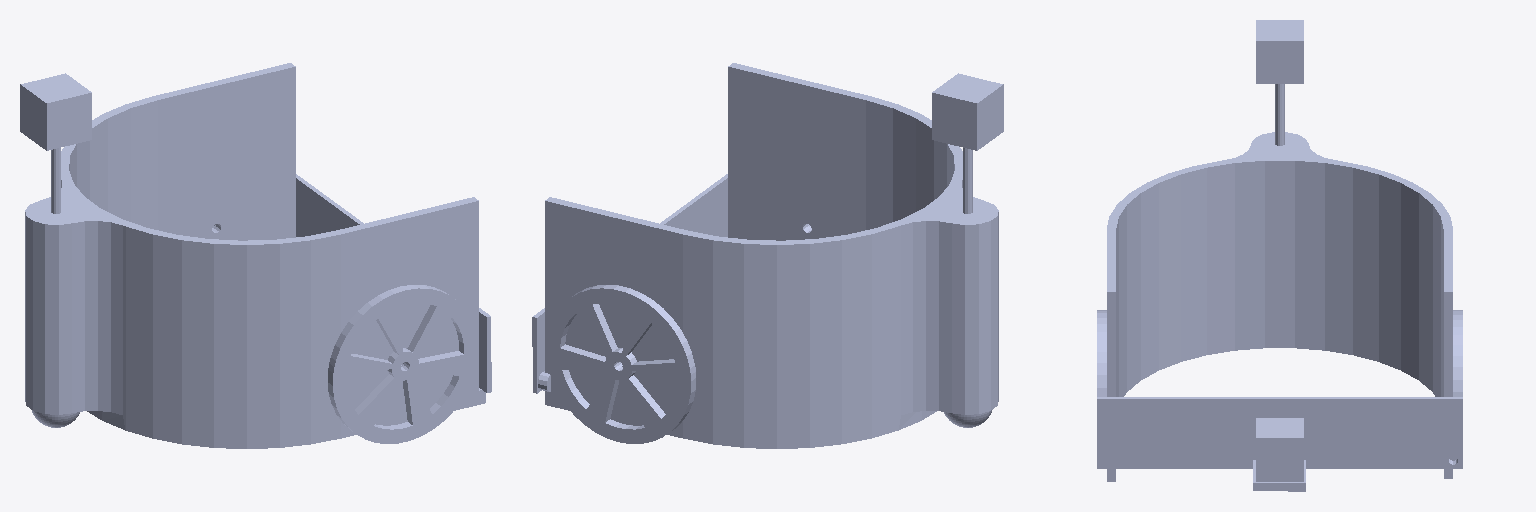
URDF robot description (bot_nav):
<?xml version="1.0" encoding="utf-8"?>
<!-- This URDF was automatically created by SolidWorks to URDF Exporter! Originally created by [author] ([email redacted]) 
     Commit Version: 1.6.0-1-g15f4949  Build Version: 1.6.7594.29634
     For more information, please see http://wiki.ros.org/sw_urdf_exporter -->
<robot
  name="bot_nav">
  <link
    name="base_link">
    <inertial>
      <origin
        xyz="-0.088804 1.6736E-05 0.096356"
        rpy="0 0 0" />
      <mass
        value="5" />
      <inertia
        ixx="0.048074"
        ixy="-9.1708E-06"
        ixz="0.0012144"
        iyy="0.042414"
        iyz="4.603E-07"
        izz="0.071261" />
    </inertial>
    <visual>
      <origin
        xyz="0 0 0"
        rpy="0 0 0" />
      <geometry>
        <mesh
          filename="package://bot_nav/meshes/base_link.STL" />
      </geometry>
      <material
        name="">
        <color
          rgba="0.79216 0.81961 0.93333 1" />
      </material>
    </visual>
    <collision>
      <origin
        xyz="0 0 0"
        rpy="0 0 0" />
      <geometry>
        <mesh
          filename="package://bot_nav/meshes/base_link.STL" />
      </geometry>
    </collision>
  </link>
  <link
    name="L_link">
    <inertial>
      <origin
        xyz="0.005 -6.9389E-18 7.3456E-11"
        rpy="0 0 0" />
      <mass
        value="3" />
      <inertia
        ixx="0.00045699"
        ixy="2.8078E-22"
        ixz="3.3426E-12"
        iyy="0.00022946"
        iyz="1.6941E-20"
        izz="0.00022946" />
    </inertial>
    <visual>
      <origin
        xyz="0 0 0"
        rpy="0 0 0" />
      <geometry>
        <mesh
          filename="package://bot_nav/meshes/L_link.STL" />
      </geometry>
      <material
        name="">
        <color
          rgba="0.79216 0.81961 0.93333 1" />
      </material>
    </visual>
    <collision>
      <origin
        xyz="0 0 0"
        rpy="0 0 0" />
      <geometry>
        <mesh
          filename="package://bot_nav/meshes/L_link.STL" />
      </geometry>
    </collision>
  </link>
  <joint
    name="L_joint"
    type="continuous">
    <origin
      xyz="0.065 0.18 0.05"
      rpy="1.6842 0 1.5708" />
    <parent
      link="base_link" />
    <child
      link="L_link" />
    <axis
      xyz="1 0 0" />
  </joint>
  <link
    name="R_link">
    <inertial>
      <origin
        xyz="-0.005 0 -7.2184E-11"
        rpy="0 0 0" />
      <mass
        value="3" />
      <inertia
        ixx="0.00045699"
        ixy="-1.1271E-22"
        ixz="3.2847E-12"
        iyy="0.00022946"
        iyz="-2.0329E-20"
        izz="0.00022946" />
    </inertial>
    <visual>
      <origin
        xyz="0 0 0"
        rpy="0 0 0" />
      <geometry>
        <mesh
          filename="package://bot_nav/meshes/R_link.STL" />
      </geometry>
      <material
        name="">
        <color
          rgba="0.79216 0.81961 0.93333 1" />
      </material>
    </visual>
    <collision>
      <origin
        xyz="0 0 0"
        rpy="0 0 0" />
      <geometry>
        <mesh
          filename="package://bot_nav/meshes/R_link.STL" />
      </geometry>
    </collision>
  </link>
  <joint
    name="R_joint"
    type="continuous">
    <origin
      xyz="0.065 -0.18 0.05"
      rpy="1.7886 0 1.5708" />
    <parent
      link="base_link" />
    <child
      link="R_link" />
    <axis
      xyz="1 0 0" />
  </joint>
  <link
    name="castor_link">
    <inertial>
      <origin
        xyz="2.7756E-17 0 3.9964E-17"
        rpy="0 0 0" />
      <mass
        value="1" />
      <inertia
        ixx="1.6362E-05"
        ixy="-1.4363E-54"
        ixz="0"
        iyy="1.6362E-05"
        iyz="-9.1835E-38"
        izz="1.6362E-05" />
    </inertial>
    <visual>
      <origin
        xyz="0 0 0"
        rpy="0 0 0" />
      <geometry>
        <mesh
          filename="package://bot_nav/meshes/castor_link.STL" />
      </geometry>
      <material
        name="">
        <color
          rgba="0.79216 0.81961 0.93333 1" />
      </material>
    </visual>
    <collision>
      <origin
        xyz="0 0 0"
        rpy="0 0 0" />
      <geometry>
        <mesh
          filename="package://bot_nav/meshes/castor_link.STL" />
      </geometry>
    </collision>
  </link>
  <joint
    name="castor_joint"
    type="continuous">
    <origin
      xyz="-0.21 0 0"
      rpy="1.5708 0 0" />
    <parent
      link="base_link" />
    <child
      link="castor_link" />
    <axis
      xyz="0 0 1" />
    <dynamics
      damping="0"
      friction="0" />
  </joint>
  <link
    name="photo_link">
    <inertial>
      <origin
        xyz="0 0.025 5.5596E-17"
        rpy="0 0 0" />
      <mass
        value="0.2" />
      <inertia
        ixx="5.2083E-05"
        ixy="2.0668E-21"
        ixz="-3.9528E-22"
        iyy="5.2083E-05"
        iyz="8.38E-37"
        izz="5.2083E-05" />
    </inertial>
    <visual>
      <origin
        xyz="0 0 0"
        rpy="0 0 0" />
      <geometry>
        <mesh
          filename="package://bot_nav/meshes/photo_link.STL" />
      </geometry>
      <material
        name="">
        <color
          rgba="0.79216 0.81961 0.93333 1" />
      </material>
    </visual>
    <collision>
      <origin
        xyz="0 0 0"
        rpy="0 0 0" />
      <geometry>
        <mesh
          filename="package://bot_nav/meshes/photo_link.STL" />
      </geometry>
    </collision>
  </link>
  <joint
    name="photo_joint"
    type="fixed">
    <origin
      xyz="-0.21 -0.025 0.305"
      rpy="0 0 0" />
    <parent
      link="base_link" />
    <child
      link="photo_link" />
    <axis
      xyz="0 0 0" />
  </joint>
  <link
    name="grip_link">
    <inertial>
      <origin
        xyz="-0.088804 1.6736E-05 0.096356"
        rpy="0 0 0" />
      <mass
        value="5" />
      <inertia
        ixx="0.048074"
        ixy="-9.1708E-06"
        ixz="0.0012144"
        iyy="0.042414"
        iyz="4.603E-07"
        izz="0.071261" />
    </inertial>
    <visual>
      <origin
        xyz="0 0 0"
        rpy="0 0 0" />
      <geometry>
        <mesh
          filename="package://bot_nav/meshes/grip_link.STL" />
      </geometry>
      <material
        name="">
        <color
          rgba="0.79216 0.81961 0.93333 1" />
      </material>
    </visual>
    <collision>
      <origin
        xyz="0 0 0"
        rpy="0 0 0" />
      <geometry>
        <mesh
          filename="package://bot_nav/meshes/grip_link.STL" />
      </geometry>
    </collision>
  </link>
  <joint
    name="grip_joint"
    type="revolute">
    <origin
      xyz="0.155 0.18 0.01"
      rpy="1.5696 0 0" />
    <parent
      link="base_link" />
    <child
      link="grip_link" />
    <axis
      xyz="-1 0 0" />
    <limit
      lower="0"
      upper="1.7"
      effort="8000"
      velocity="1.0" />
    <dynamics
      damping="0"
      friction="0" />
  </joint>
  <link
    name="scan_link">
    <inertial>
      <origin
        xyz="-2.7756E-17 0.025 -1.222E-07 "
        rpy="0 0 0" />
      <mass
        value="0.2" />
      <inertia
        ixx="5.2083E-05"
        ixy="-6.6706E-22"
        ixz="-1.8098E-21"
        iyy="5.2083E-05"
        iyz="4.1558E-21"
        izz="5.2083E-05" />
    </inertial>
    <visual>
      <origin
        xyz="0 -0.025 -0.025"
        rpy="0 0 0" />
      <geometry>
        <mesh
          filename="package://bot_nav/meshes/scan_link.STL" />
      </geometry>
      <material
        name="">
        <color
          rgba="0.79216 0.81961 0.93333 1" />
      </material>
    </visual>
    <collision>
      <origin
        xyz="0 -0.025 -0.025"
        rpy="0 0 0" />
      <geometry>
        <mesh
          filename="package://bot_nav/meshes/scan_link.STL" />
      </geometry>
    </collision>
  </link>
  <joint
    name="scan_joint"
    type="fixed">
    <origin
      xyz="0.0325 0 0.18"
      rpy="1.57 0 0" />
    <parent
      link="grip_link" />
    <child
      link="scan_link" />
    <axis
      xyz="0 0 0" />
  </joint>


 <!--Drive-->

  <gazebo>

    <plugin filename="libgazebo_ros_diff_drive.so" name="differential_drive_controller">

      <legacyMode>false</legacyMode>

      <alwaysOn>true</alwaysOn>

      <updateRate>20</updateRate>

      <leftJoint>L_joint</leftJoint>

      <rightJoint>R_joint</rightJoint>

      <wheelSeparation>0.36</wheelSeparation>

      <wheelDiameter>0.16</wheelDiameter>

      <torque>5</torque>

      <commandTopic>cmd_vel</commandTopic>

      <odometryTopic>odom</odometryTopic>

      <odometryFrame>odom</odometryFrame>

      <robotBaseFrame>base_link</robotBaseFrame>

    </plugin>

  </gazebo>


 <!--Transmission for gate-->

  <gazebo>
    <plugin name="gazebo_ros_control" filename="libgazebo_ros_control.so">
      <robotNamespace>/bot_nav</robotNamespace>
      <robotSimType>gazebo_ros_control/DefaultRobotHWSim</robotSimType>
      <legacyModeNS>true</legacyModeNS>
    </plugin>
  </gazebo>

  <transmission name="base_to_second_trans">
    <type>transmission_interface/SimpleTransmission</type>
    <actuator name="motor1">
      <mechanicalReduction>1</mechanicalReduction>
    </actuator>
    <joint name="grip_joint">
      <hardwareInterface>PositionJointInterface</hardwareInterface>
    </joint>
  </transmission>

  <!-- SENSORS -->

     <!--camera-->
  <gazebo reference="photo_link">
    <sensor type="camera" name="camera1">
      <update_rate>30.0</update_rate>
      <camera name="head">
        <horizontal_fov>1.3962634</horizontal_fov>
        <image>
          <width>800</width>
          <height>800</height>
          <format>R8G8B8</format>
        </image>
        <clip>
          <near>0.02</near>
          <far>300</far>
        </clip>
        <noise>
          <type>gaussian</type>
          <!-- Noise is sampled independently per pixel on each frame.
               That pixel's noise value is added to each of its color
               channels, which at that point lie in the range [0,1]. -->
          <mean>0.0</mean>
          <stddev>0.007</stddev>
        </noise>
      </camera>
      <plugin name="camera_controller" filename="libgazebo_ros_camera.so">
        <alwaysOn>true</alwaysOn>
        <updateRate>0.0</updateRate>
        <cameraName>robot/camera1</cameraName>
        <imageTopicName>image_raw</imageTopicName>
        <cameraInfoTopicName>camera_info</cameraInfoTopicName>
        <frameName>photo_link</frameName>
        <hackBaseline>0.07</hackBaseline>
        <distortionK1>0.0</distortionK1>
        <distortionK2>0.0</distortionK2>
        <distortionK3>0.0</distortionK3>
        <distortionT1>0.0</distortionT1>
        <distortionT2>0.0</distortionT2>
      </plugin>
    </sensor>
  </gazebo>

    <!--Laser_scan-->
  <gazebo reference="scan_link">

    <material>Gazebo/Blue</material>

	    <sensor name="head_hokuyo_sensor" type="ray">

	      <pose>0.05 0 0 0 0 0</pose>

	      <visualize>true</visualize>

	      <update_rate>40</update_rate>

	      <ray>

	        <scan>

	          <horizontal>

	            <samples>720</samples>

	            <resolution>1</resolution>

	            <min_angle>-1.57</min_angle>

	            <max_angle>1.57</max_angle>

	          </horizontal>

	        </scan>

	        <range>

	          <min>0.10</min>

	          <max>10.0</max>

	          <resolution>0.001</resolution>

	        </range>

	      </ray>

	      <plugin filename="libgazebo_ros_laser.so" name="gazebo_ros_head_hokuyo_controller">

	        <topicName>/mybot/laser/scan</topicName>

	        <frameName>scan_link</frameName>

	      </plugin>

	    </sensor>

  	</gazebo>

</robot>

--- What the picture shows (computed from the rendered views, not written in the file) ---
The picture shows the robot from 3 angles, left to right: view 1: azimuth 30°, elevation 25°; view 2: azimuth 150°, elevation 25°; view 3: azimuth 270°, elevation 25°; orthographic projection.
Model bot_nav with 7 links and 6 joints (1 revolute, 3 continuous, 2 fixed), rooted at base_link, posed every joint at zero.
Visible links, largest first — view 1: base_link, R_link, photo_link, grip_link; view 2: base_link, L_link, photo_link, grip_link; view 3: base_link, grip_link, scan_link, photo_link, L_link, R_link.
Link boxes in pixels (x1,y1,x2,y2): base_link: (25, 63, 485, 448); R_link: (328, 285, 477, 443); photo_link: (20, 73, 91, 150); grip_link: (296, 174, 491, 392); base_link: (538, 63, 998, 448); L_link: (546, 285, 695, 443); photo_link: (932, 73, 1003, 150); grip_link: (532, 174, 727, 393); base_link: (1107, 30, 1457, 481); grip_link: (1097, 397, 1462, 491); scan_link: (1256, 418, 1303, 481); photo_link: (1256, 20, 1303, 83); L_link: (1453, 310, 1462, 396); R_link: (1097, 310, 1106, 396).
Bounding box of the posed robot: 0.4542 × 0.3801 × 0.36 m (x, y, z).
7 mesh visuals loaded from 7 distinct referenced files (7 binary STL).
